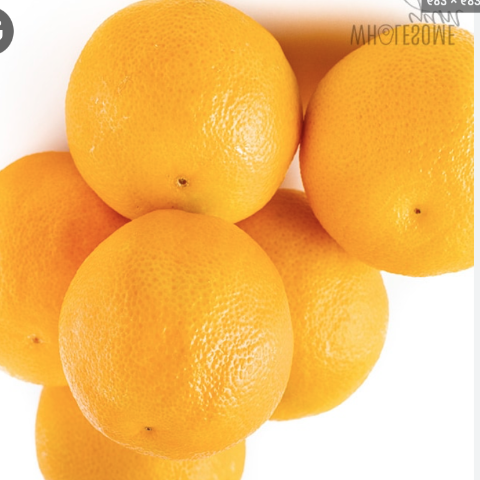orange: (52, 5, 339, 234), (50, 209, 310, 458), (296, 24, 480, 317)
